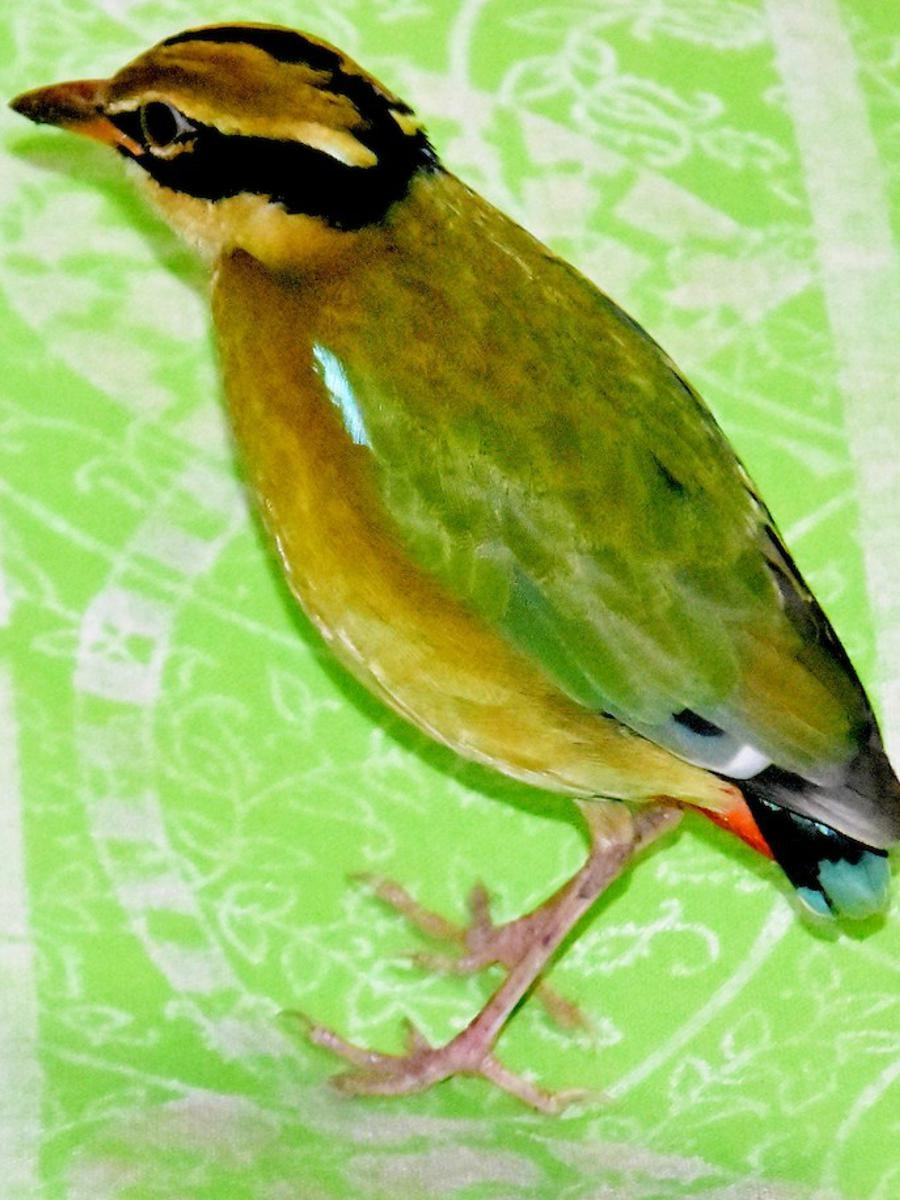pitta: (9, 27, 900, 1050)
